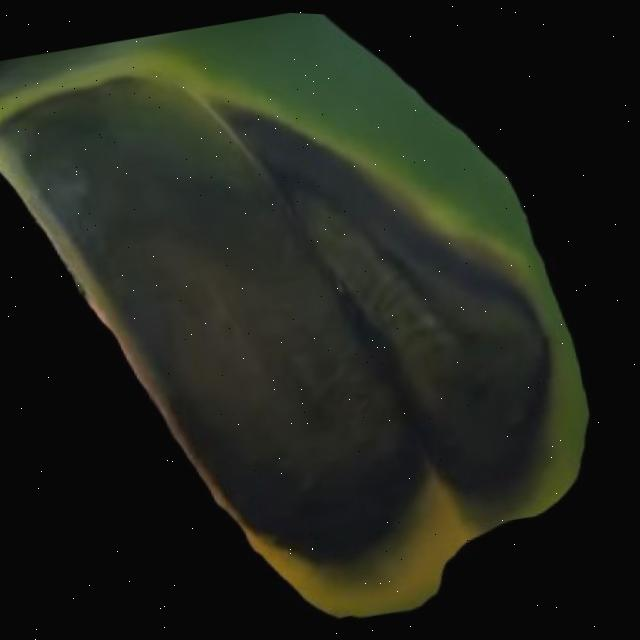mite: (211, 46, 586, 549)
